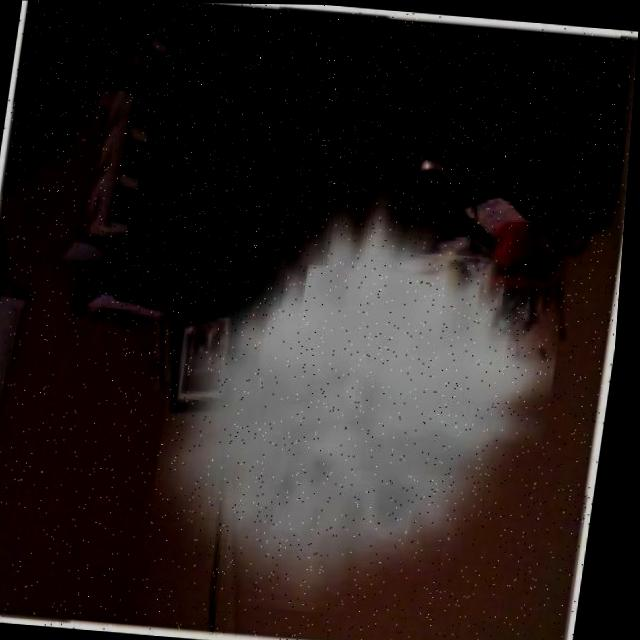no_helmet: (161, 183, 597, 593)
